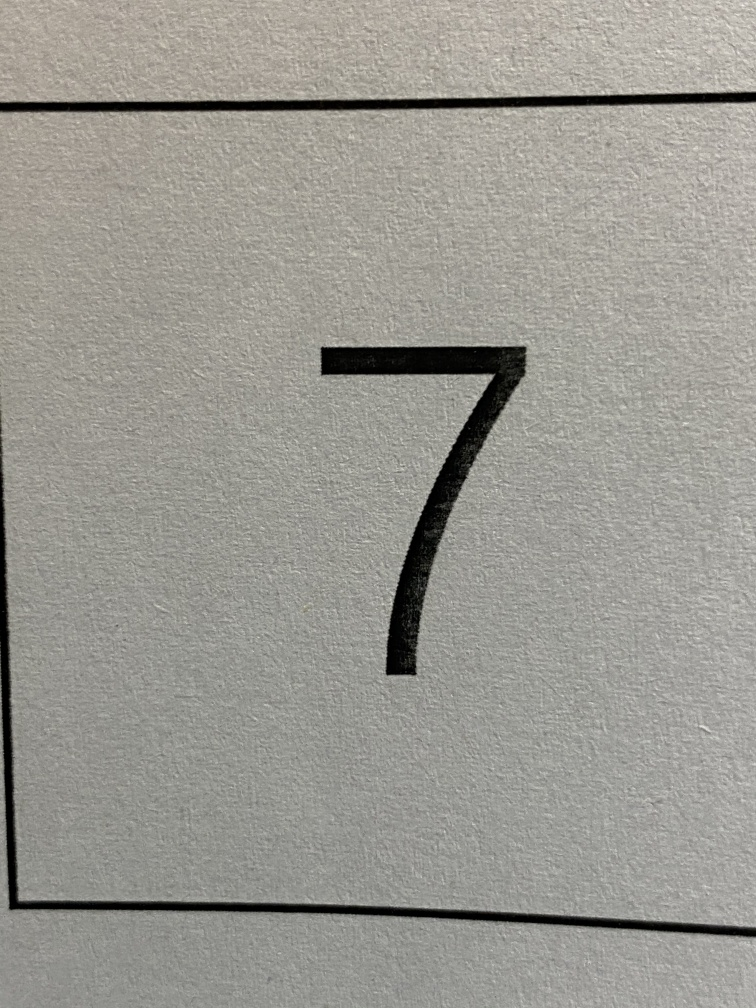seven: (246, 286, 589, 735)
